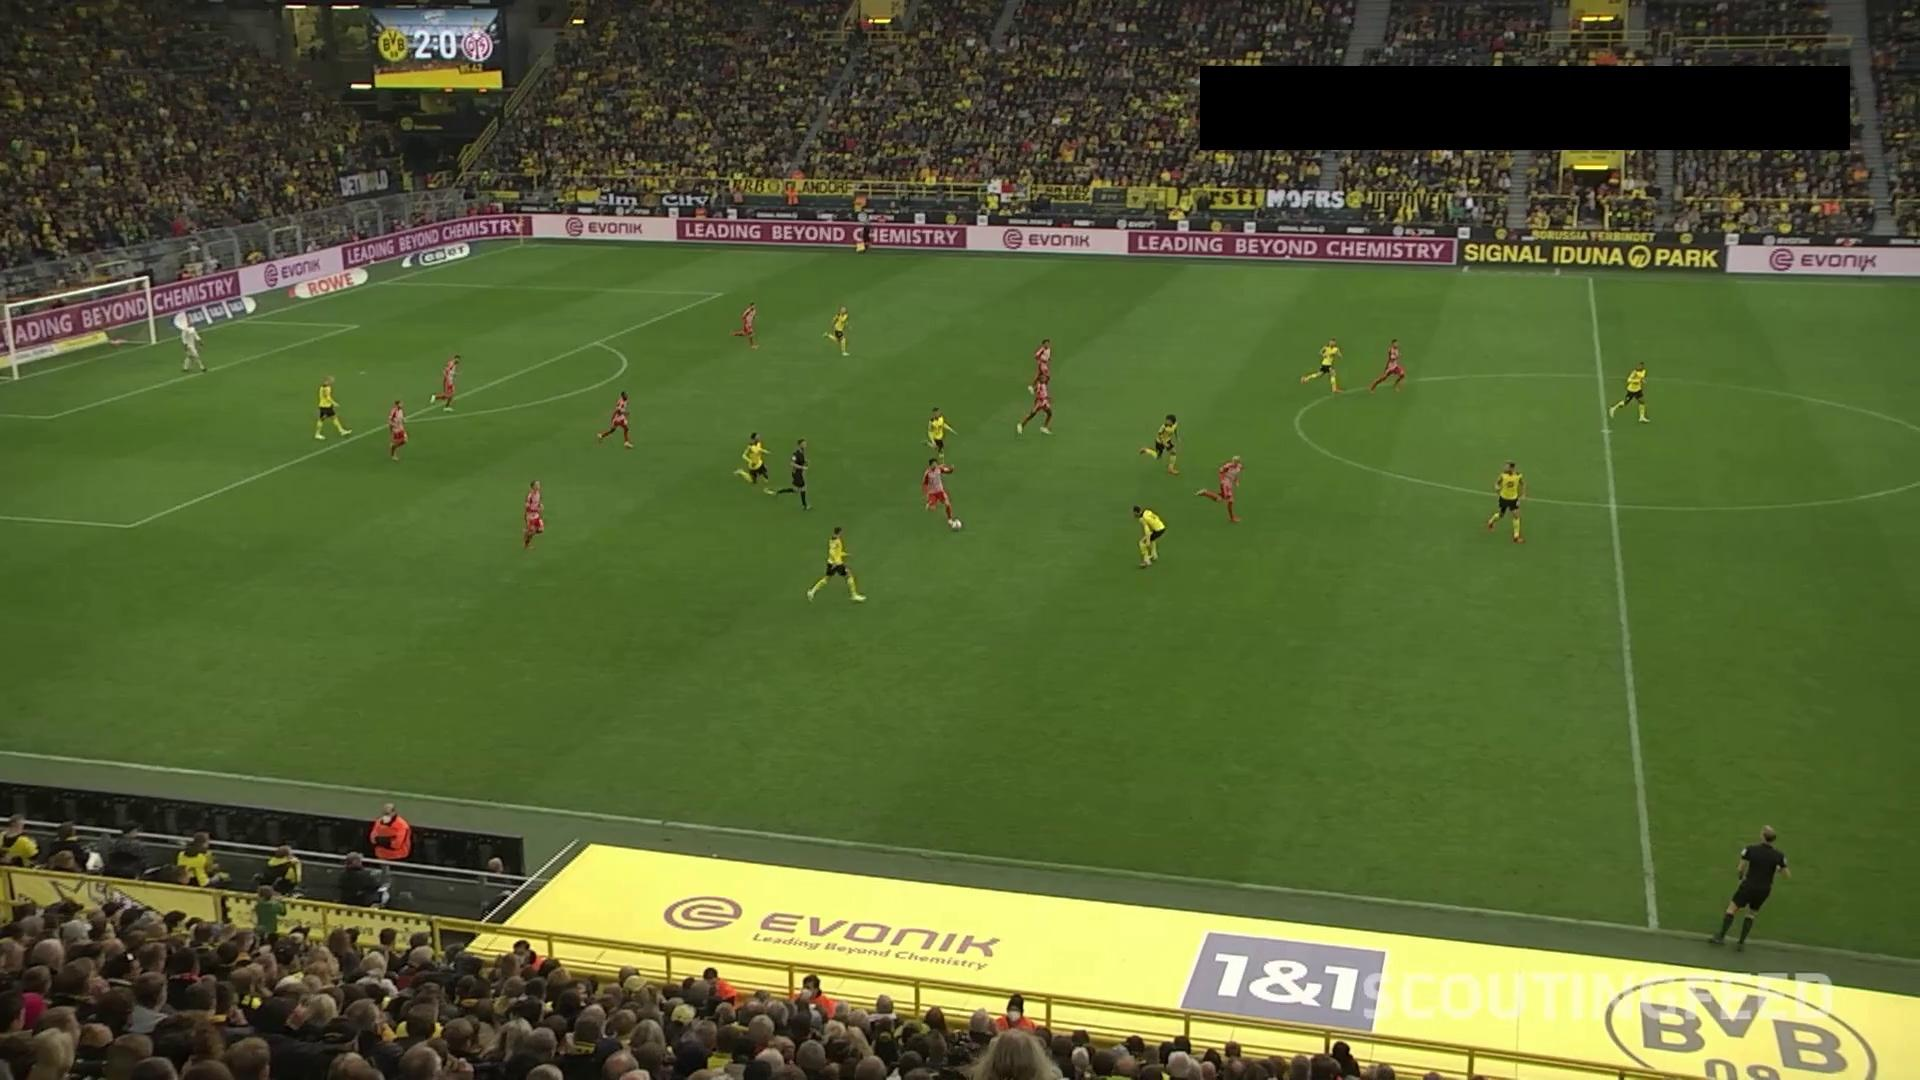Location-of-ball: (944, 513, 972, 535)
